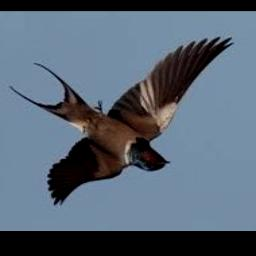Swallow: (11, 38, 234, 207)
